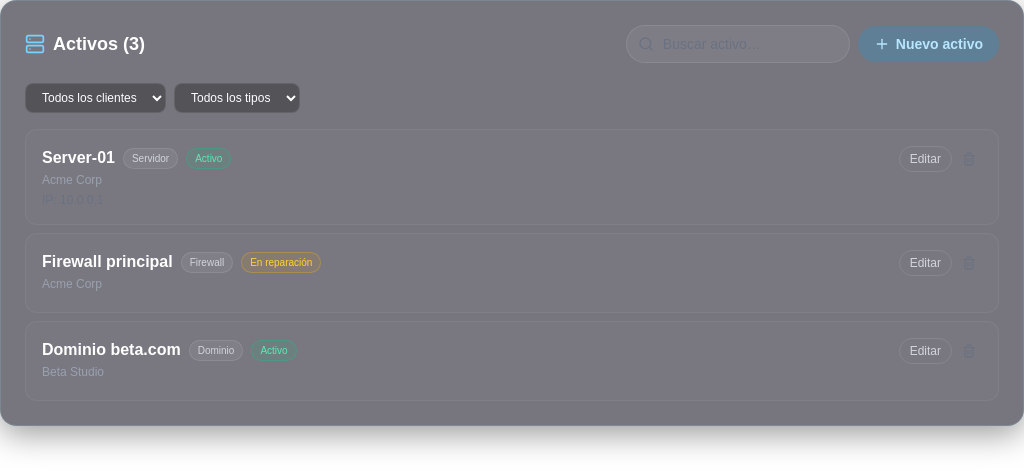
Test: AssetsSection › filters by search text (name / IP / client)
In the field with placeholder "Buscar activo…": coordinates (738, 44) [626,25,850,63], type "10.0.0.1"
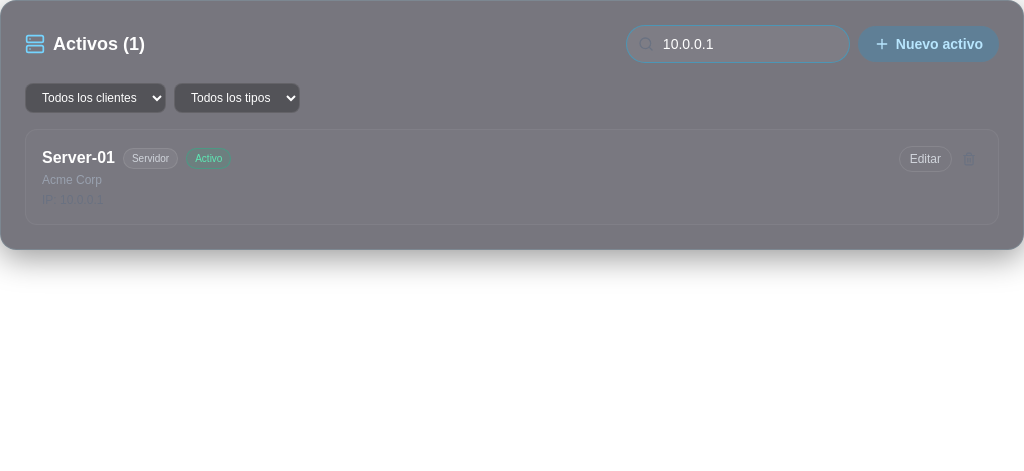
Expected: the text "Server-01" is shown, [42,146,115,170]
Now the text "Firewall principal" is gone
